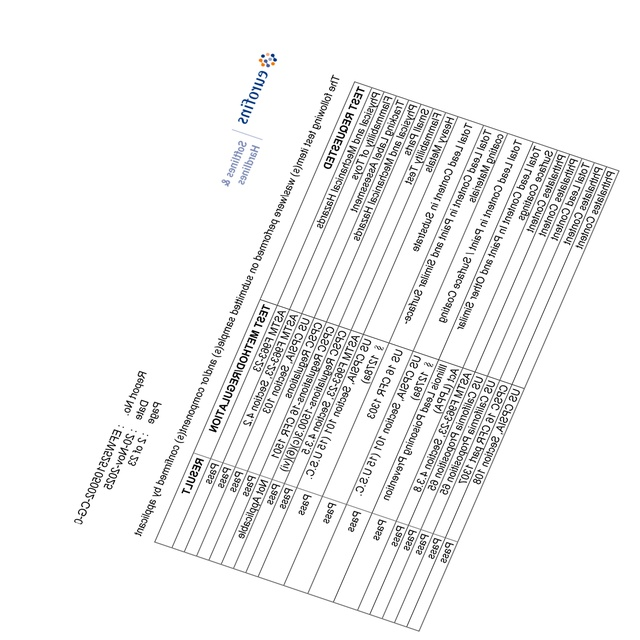eurofins: (233, 47, 280, 132)
